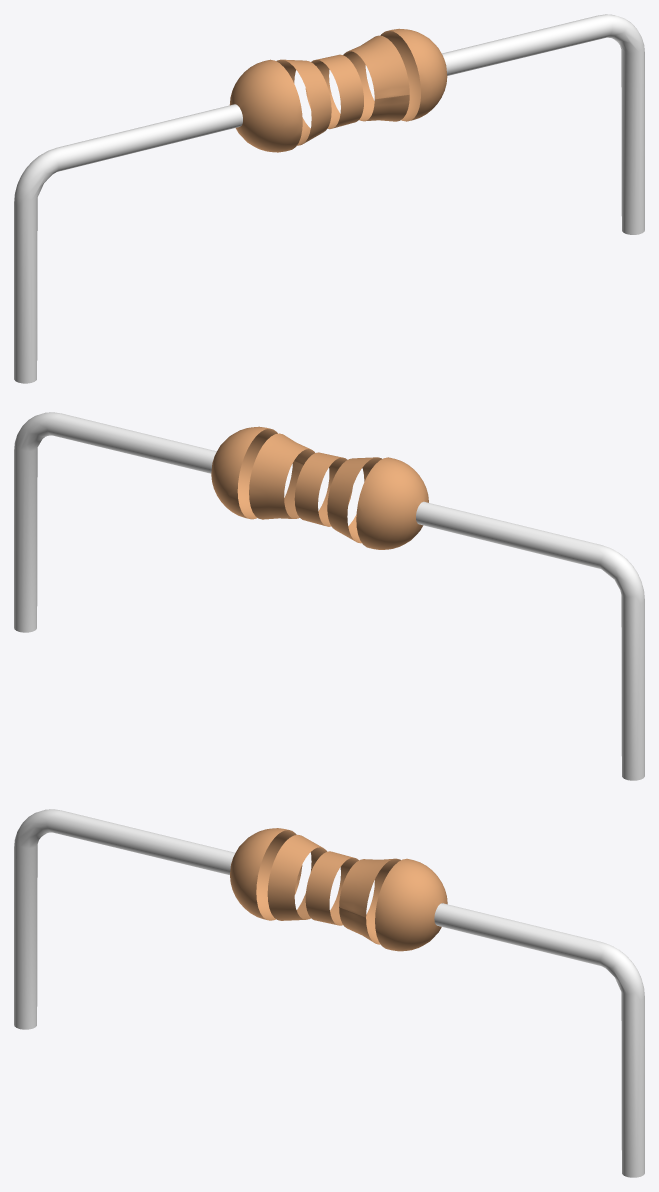
File: resistor-base.glb
3 views of the same model, one above another, from view 1: azimuth 30°, elevation 25°; view 2: azimuth 150°, elevation 25°; view 3: azimuth 330°, elevation 25° (orthographic).
Visible parts, largest first — view 1: Metal_031-material, Material_058-material; view 2: Metal_031-material, Material_058-material; view 3: Metal_031-material, Material_058-material.
Boxes of the visible parts, <box> form: Metal_031-material: <box>14,14,644,383</box>; Material_058-material: <box>229,28,447,152</box>; Metal_031-material: <box>14,412,644,780</box>; Material_058-material: <box>211,426,428,549</box>; Metal_031-material: <box>14,809,644,1177</box>; Material_058-material: <box>230,828,447,951</box>.
Bounding box in the file's own units: 0.0187 × 0.0072 × 0.00241.
